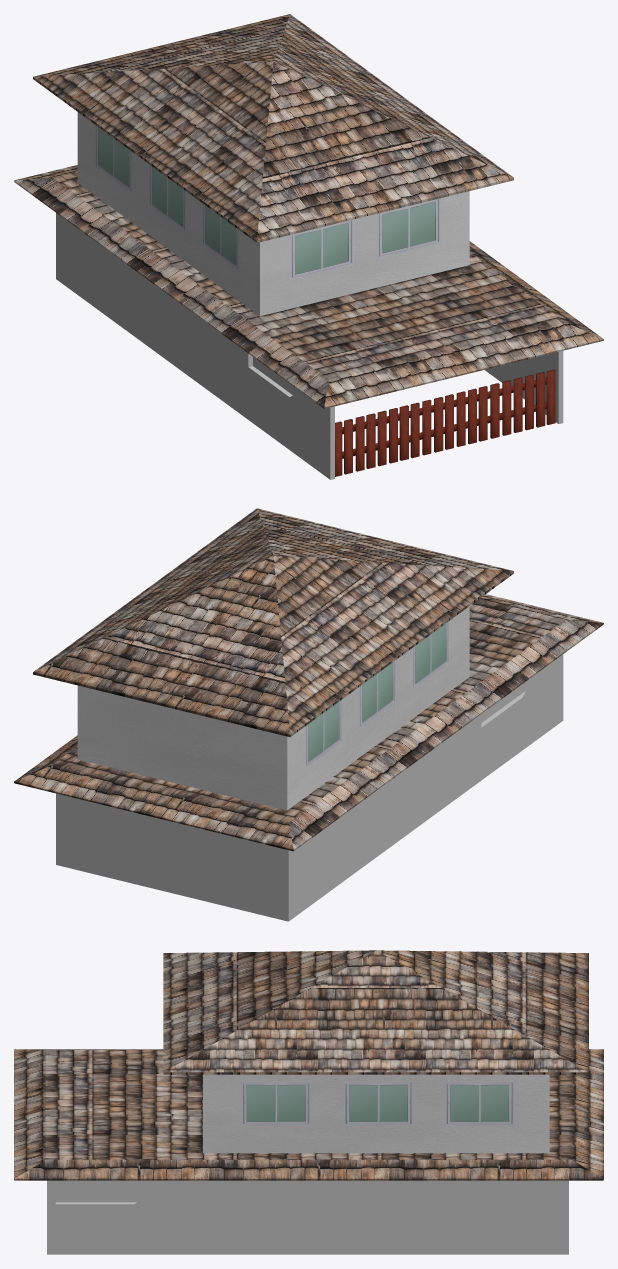
File: บ้านแก้.fbx
The picture shows the model from 3 angles, top to bottom: view 1: azimuth 30°, elevation 25°; view 2: azimuth 150°, elevation 25°; view 3: azimuth 270°, elevation 25°; orthographic projection. The views are drawn at different scales.
Visible parts, largest first — view 1: Cube.003, Plane, Cube.001, Cube.002, Plane.002, Plane.003, Plane.007, Plane.008, Plane.009; view 2: Cube.003, Cube.001, Plane, Cube.002, Plane.009, Plane.007, Plane.008; view 3: Cube.003, Plane, Cube.001, Cube.002, Plane.004, Plane.005, Plane.006.
Boxes of the visible parts, left/top/right/bottom form: Cube.003: left=33, top=14, right=513, bottom=242; Plane: left=14, top=165, right=603, bottom=408; Cube.001: left=56, top=213, right=563, bottom=479; Cube.002: left=77, top=112, right=469, bottom=316; Plane.002: left=290, top=219, right=353, bottom=280; Plane.003: left=377, top=198, right=440, bottom=258; Plane.007: left=95, top=125, right=131, bottom=193; Plane.008: left=149, top=164, right=185, bottom=233; Plane.009: left=202, top=203, right=238, bottom=271; Cube.003: left=33, top=508, right=513, bottom=737; Cube.001: left=56, top=654, right=563, bottom=921; Plane: left=14, top=594, right=603, bottom=851; Cube.002: left=77, top=606, right=469, bottom=810; Plane.009: left=412, top=621, right=449, bottom=689; Plane.007: left=305, top=700, right=341, bottom=768; Plane.008: left=359, top=660, right=395, bottom=728; Cube.003: left=163, top=950, right=588, bottom=1074; Plane: left=14, top=1049, right=603, bottom=1180; Cube.001: left=47, top=1180, right=568, bottom=1254; Cube.002: left=203, top=1074, right=549, bottom=1153; Plane.004: left=241, top=1081, right=311, bottom=1125; Plane.005: left=343, top=1081, right=413, bottom=1125; Plane.006: left=444, top=1081, right=514, bottom=1125.
Size of the model in its own units: 886 by 796 by 1702.
